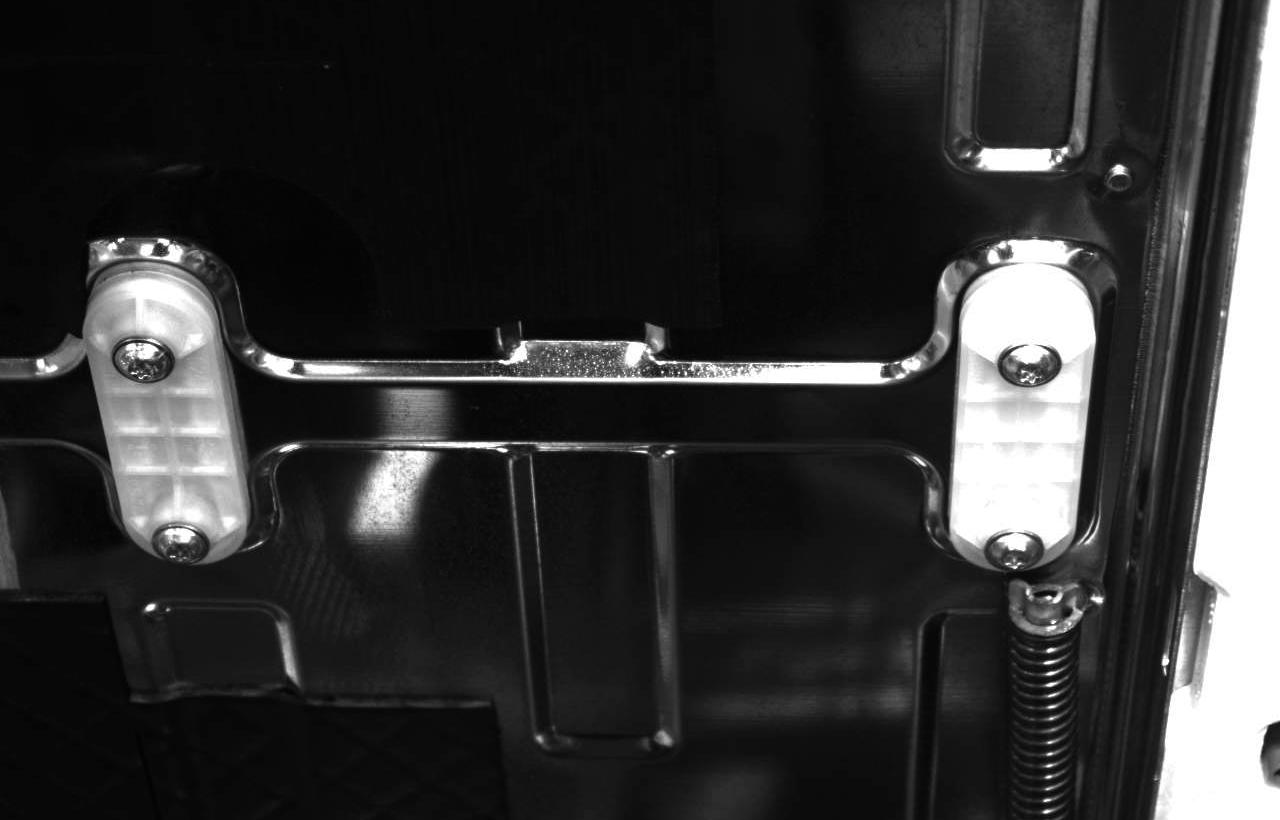vida-ok: (106, 331, 177, 398), (997, 332, 1064, 399), (984, 525, 1050, 584), (149, 515, 214, 574)
